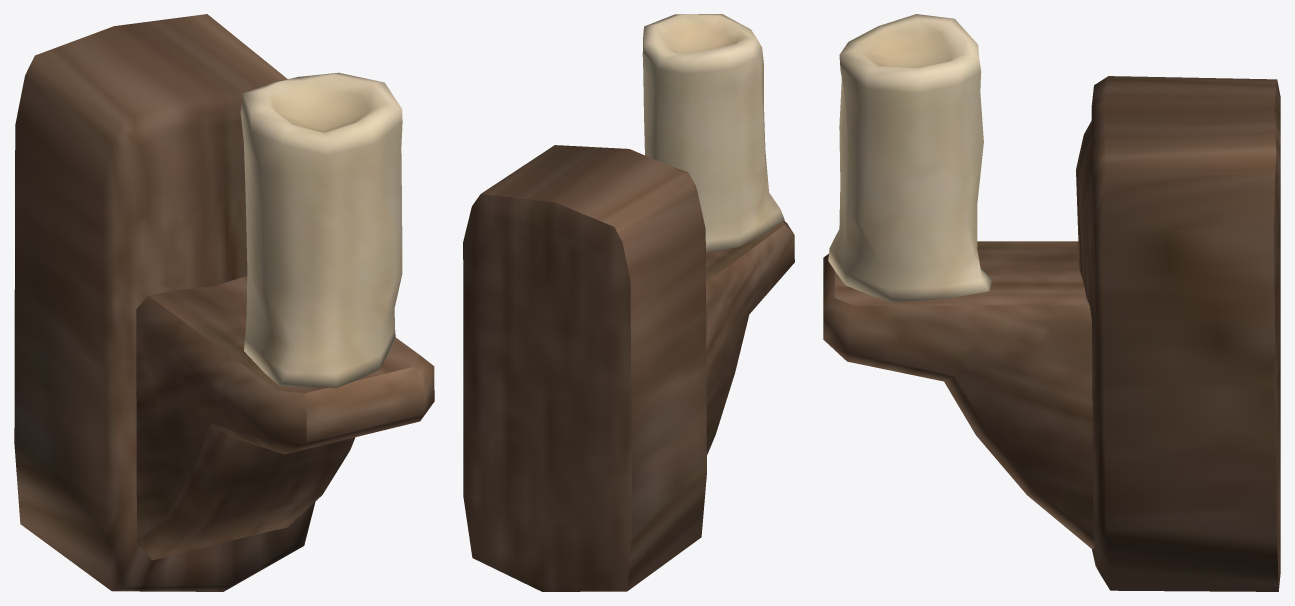
The model's file is comfort_t1_illuminationwall_candle.glb.
The picture shows the model from 3 angles, left to right: view 1: azimuth 30°, elevation 25°; view 2: azimuth 150°, elevation 25°; view 3: azimuth 270°, elevation 25°; orthographic projection. The views are drawn at different scales.
Visible parts, largest first — view 1: global_props_candle_01_a_wall_on; view 2: global_props_candle_01_a_wall_on; view 3: global_props_candle_01_a_wall_on.
Part boxes in pixels (x1,y1,x2,y2): global_props_candle_01_a_wall_on: (14,14,434,591); global_props_candle_01_a_wall_on: (463,14,794,591); global_props_candle_01_a_wall_on: (823,14,1280,591).
Bounding box in the file's own units: 0.1659 × 0.4126 × 0.3221.
Materials: 2 (2 with a texture image).
